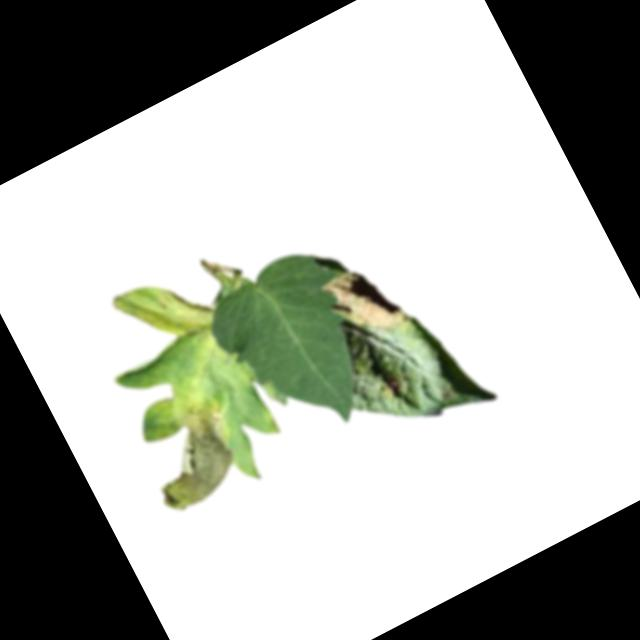Late_blight: (119, 373, 260, 519), (319, 254, 413, 353), (131, 269, 220, 356), (375, 372, 411, 404)
healthy: (195, 238, 397, 459)
